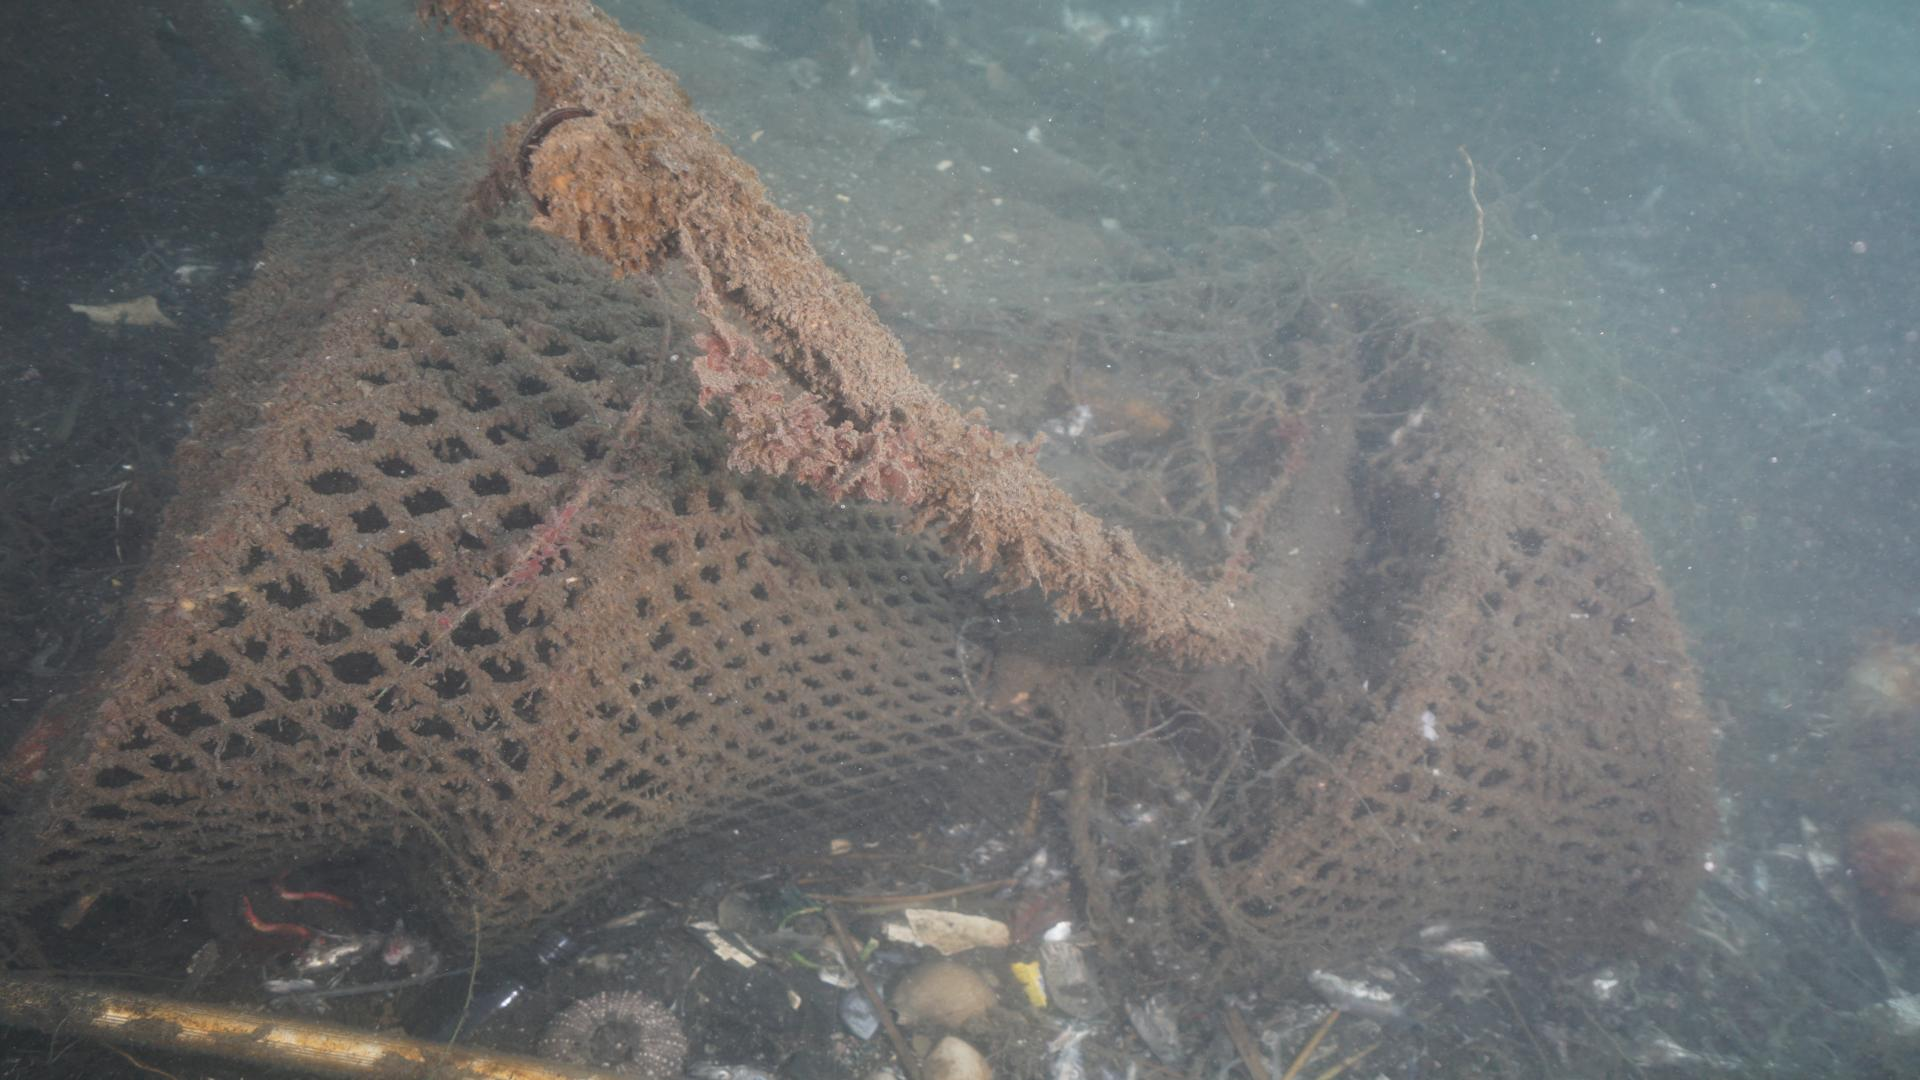spring fish trap: (0, 142, 1724, 982)
